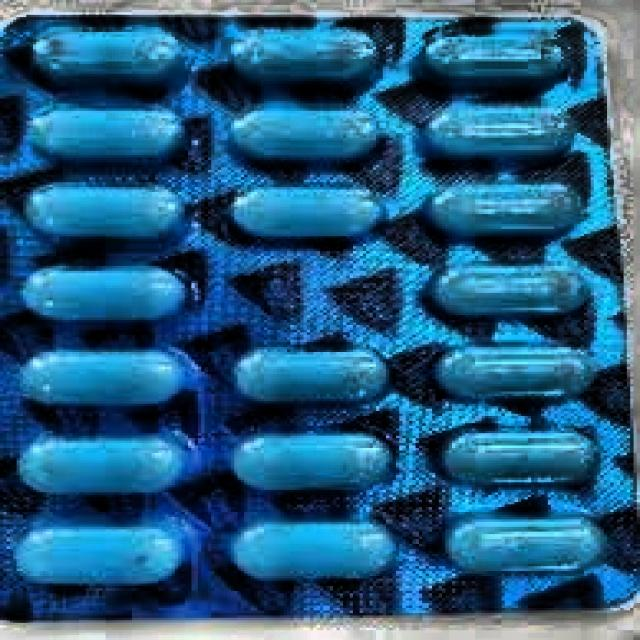Paracetamol: (10, 17, 633, 607)
